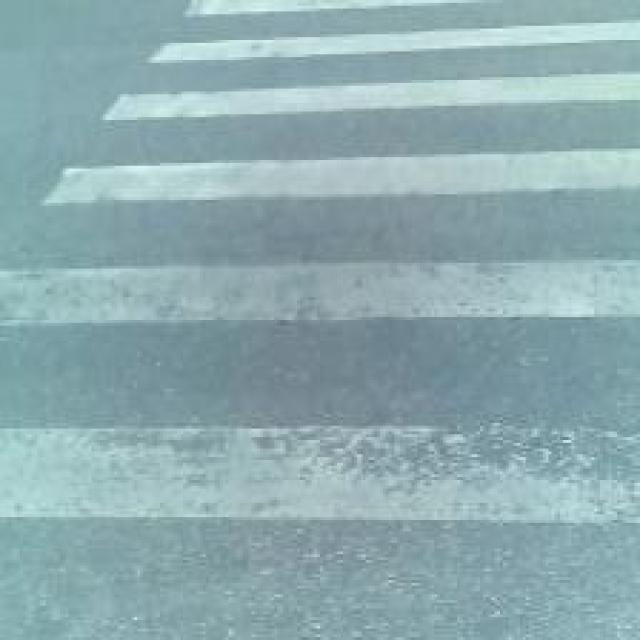zebra: (2, 0, 640, 550)
